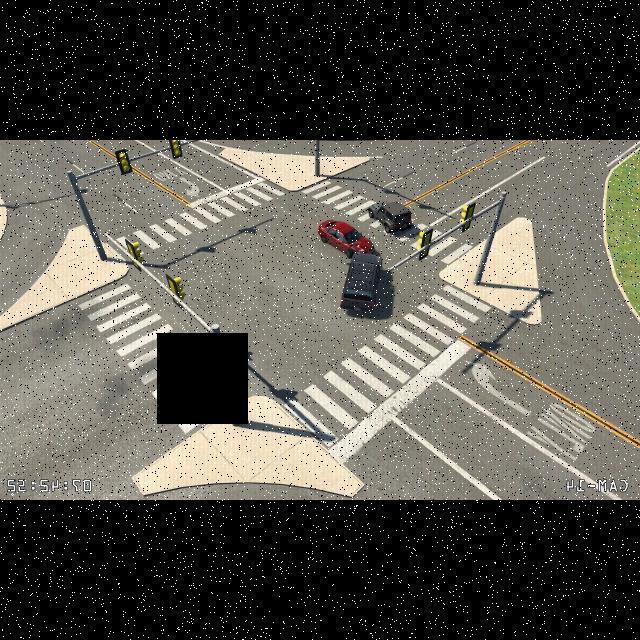accident: (317, 218, 386, 315)
